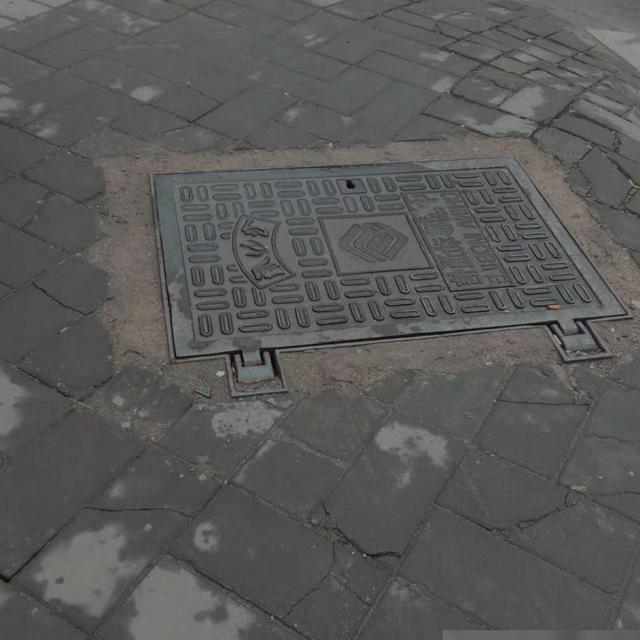good: (153, 151, 638, 399)
